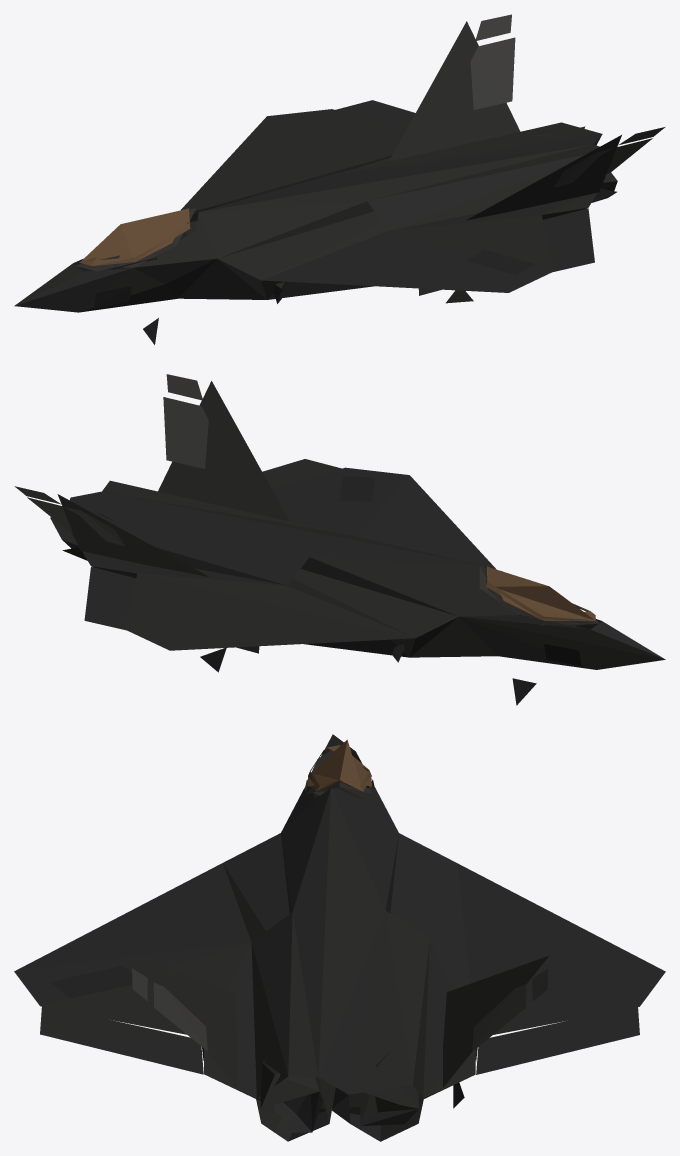
3 renders of one model, top to bottom at view 1: azimuth 30°, elevation 25°; view 2: azimuth 150°, elevation 25°; view 3: azimuth 270°, elevation 25°, orthographic. The views are drawn at different scales.
Visible parts, largest first — view 1: Object_2; view 2: Object_2; view 3: Object_2.
Part boxes in pixels (box(x1,y1,x2,y2)): Object_2: box(14, 14, 665, 344); Object_2: box(14, 374, 665, 705); Object_2: box(14, 734, 665, 1141).
Bounding box in the file's own units: 2.5 × 0.7036 × 1.75.
